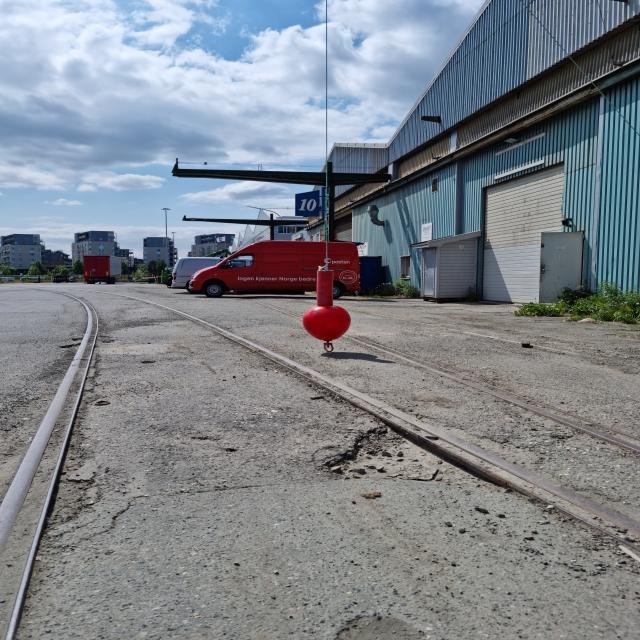red: (302, 271, 352, 342)
